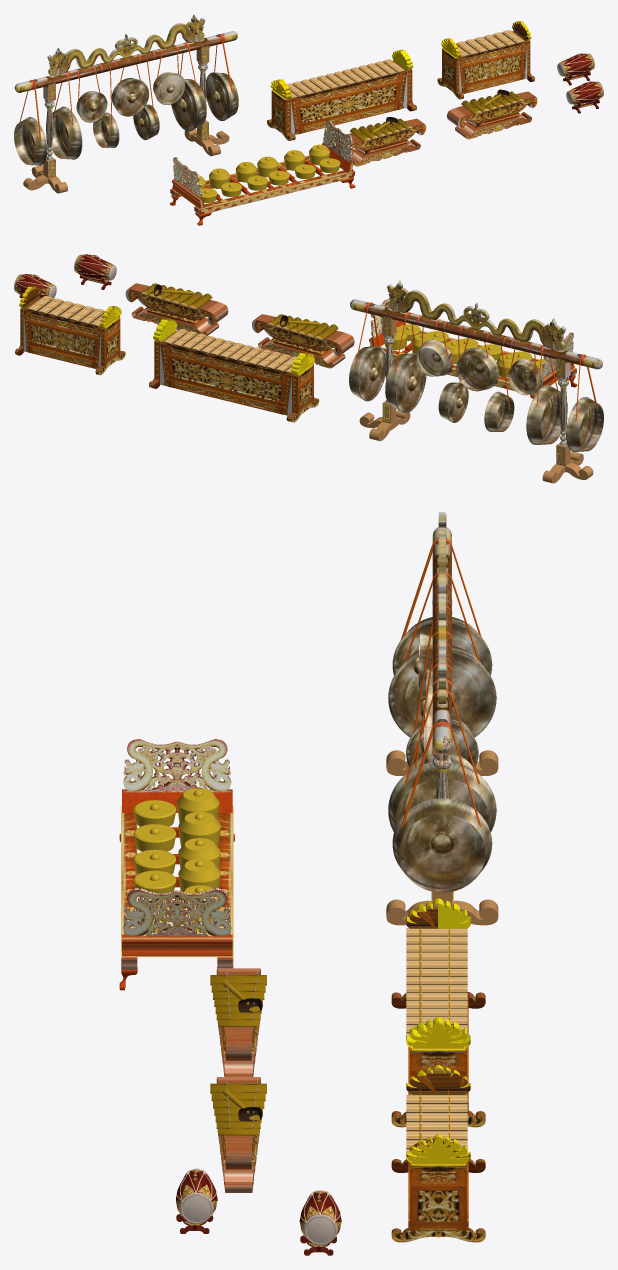
The model's file is gamelan.glb.
3 renders of one model, top to bottom at view 1: azimuth 30°, elevation 25°; view 2: azimuth 150°, elevation 25°; view 3: azimuth 270°, elevation 25°, orthographic. The views are drawn at different scales.
Visible parts, largest first — view 1: Object_12, Object_35, Object_2, Object_31, Object_7, Object_114, Object_39, Object_20, Object_107, Object_33, Object_42, Object_106 (+3 smaller); view 2: Object_12, Object_35, Object_31, Object_2, Object_7, Object_39, Object_33, Object_42, Object_107, Object_114, Object_20, Object_109 (+3 smaller); view 3: Object_12, Object_2, Object_114, Object_35, Object_7, Object_42, Object_31, Object_33, Object_39, Object_26, Object_20, Object_107 (+3 smaller).
Boxes of the visible parts, x1,y1,x2,y2 form: Object_12: (14, 14, 238, 178); Object_35: (286, 30, 527, 134); Object_2: (19, 21, 531, 213); Object_31: (339, 91, 537, 166); Object_7: (46, 70, 340, 202); Object_114: (173, 120, 352, 197); Object_39: (268, 22, 534, 140); Object_20: (170, 159, 354, 215); Object_107: (560, 53, 603, 113); Object_33: (350, 91, 522, 141); Object_42: (271, 48, 456, 132); Object_106: (170, 142, 355, 225); Object_12: (349, 280, 603, 466); Object_35: (23, 296, 298, 415); Object_31: (125, 283, 354, 368); Object_2: (19, 279, 597, 483); Object_7: (383, 324, 566, 387); Object_39: (15, 287, 317, 422); Object_33: (143, 283, 338, 340); Object_42: (104, 318, 313, 412); Object_107: (15, 254, 113, 298); Object_114: (370, 298, 573, 378); Object_20: (369, 338, 576, 395); Object_109: (153, 284, 320, 327); Object_12: (388, 512, 496, 901); Object_2: (121, 539, 498, 1204); Object_114: (122, 739, 232, 936); Object_35: (406, 928, 468, 1227); Object_7: (133, 768, 448, 934); Object_42: (410, 1050, 466, 1230); Object_31: (216, 968, 260, 1192); Object_33: (210, 975, 266, 1135); Object_39: (391, 903, 485, 1236); Object_26: (121, 813, 232, 951); Object_20: (122, 792, 232, 969); Object_107: (176, 1171, 341, 1255).
Size of the model in its own units: 6.22 by 1.51 by 1.87.
81 materials, 80 textured.
